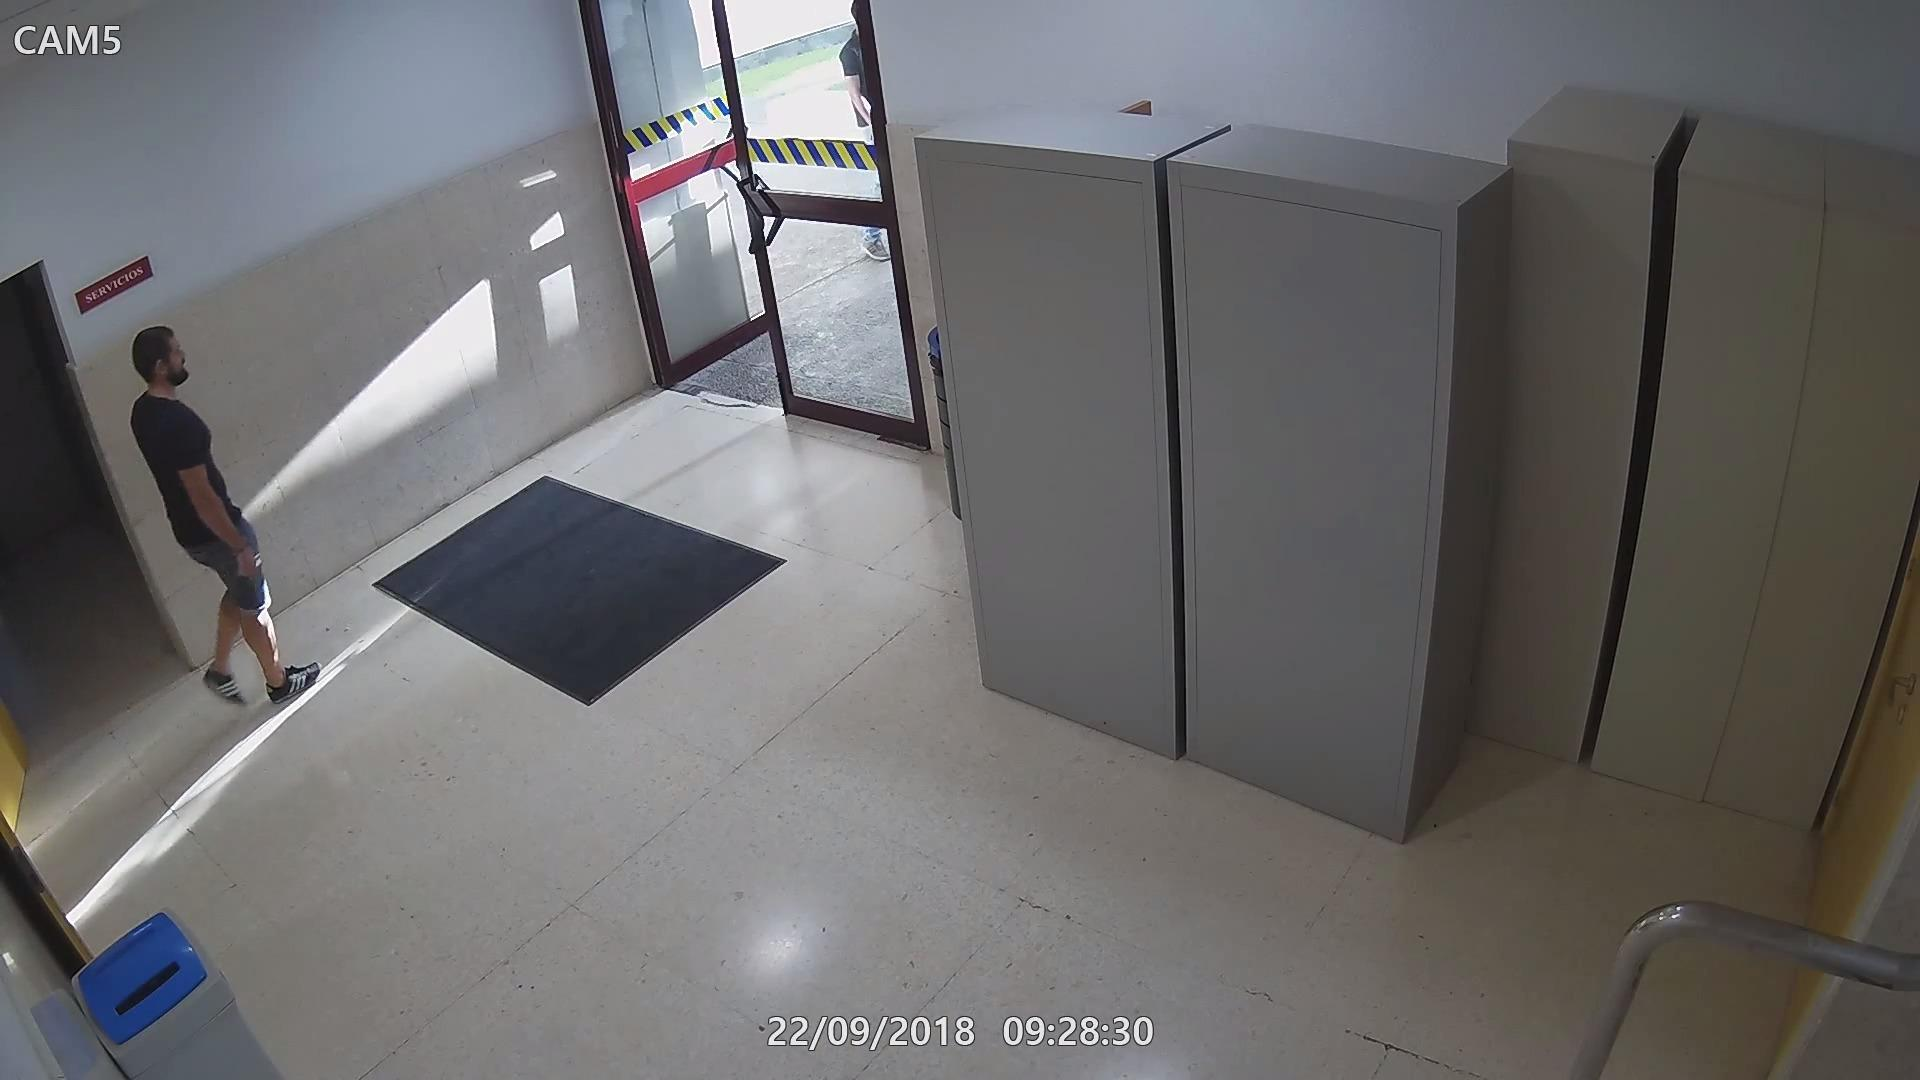Handgun: (228, 542, 278, 608)
